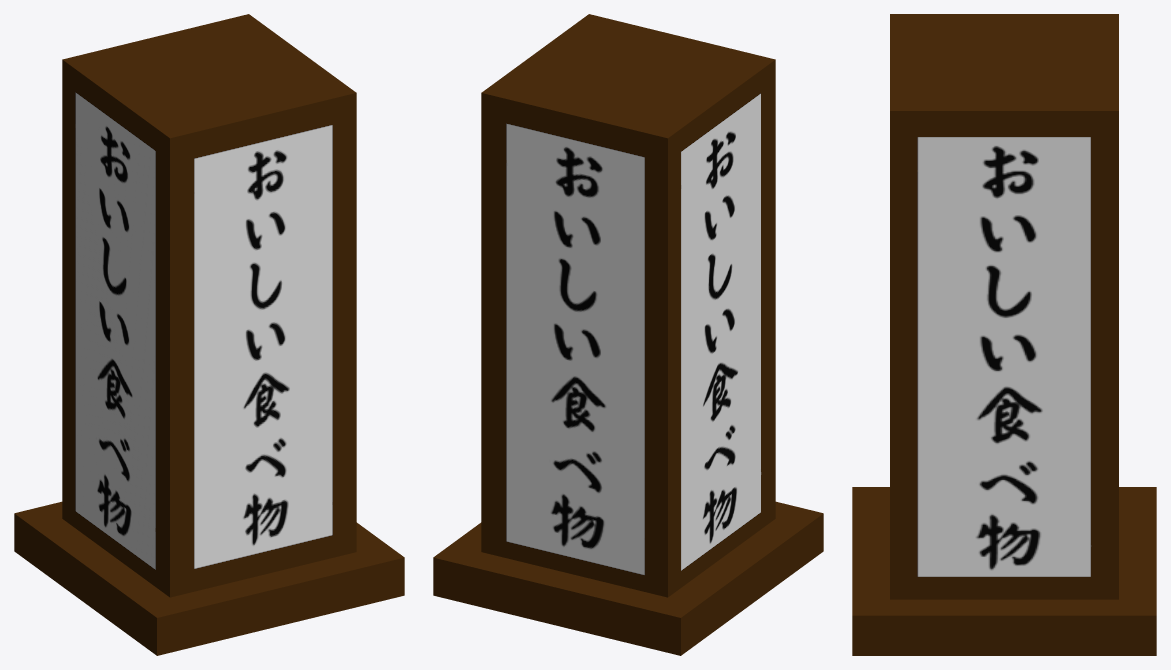
Rendered from CubeStandingSign.fbx.
3 views of the same model, side by side, from view 1: azimuth 30°, elevation 25°; view 2: azimuth 150°, elevation 25°; view 3: azimuth 270°, elevation 25° (orthographic). The views are drawn at different scales.
Parts seen in each view (by area): view 1: Cube; view 2: Cube; view 3: Cube.
Boxes of the visible parts, box(x1,y1,x2,y2) form: Cube: box(14, 14, 404, 655); Cube: box(433, 14, 823, 655); Cube: box(852, 14, 1156, 655).
Bounding box in the file's own units: 144 × 277 × 144.
